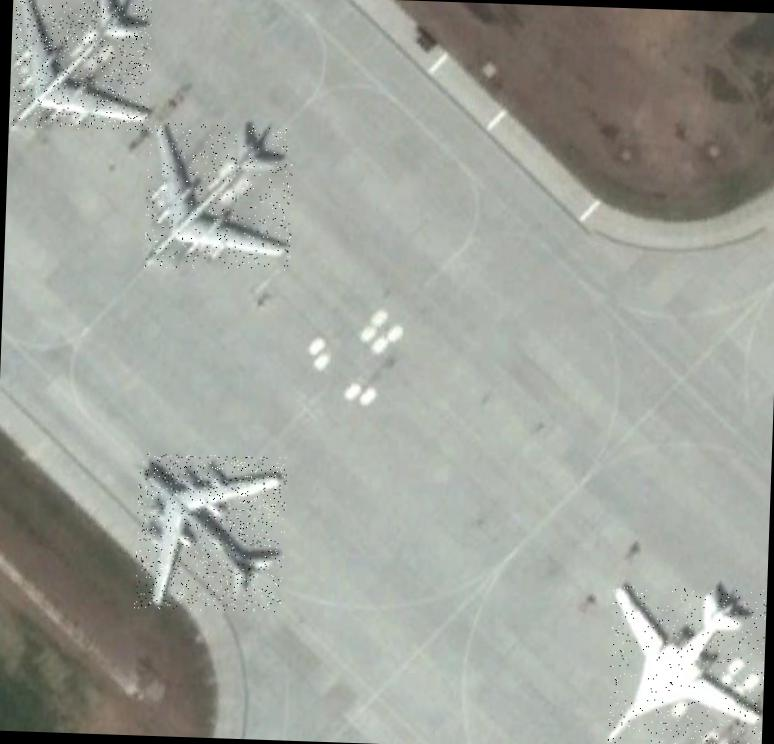A17: (134, 453, 287, 614), (144, 122, 294, 272), (11, 0, 153, 131)
A6: (607, 585, 767, 744)
